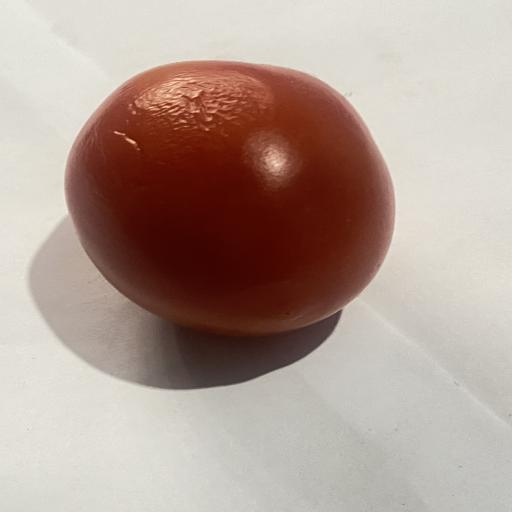overipe: (65, 61, 394, 335)
